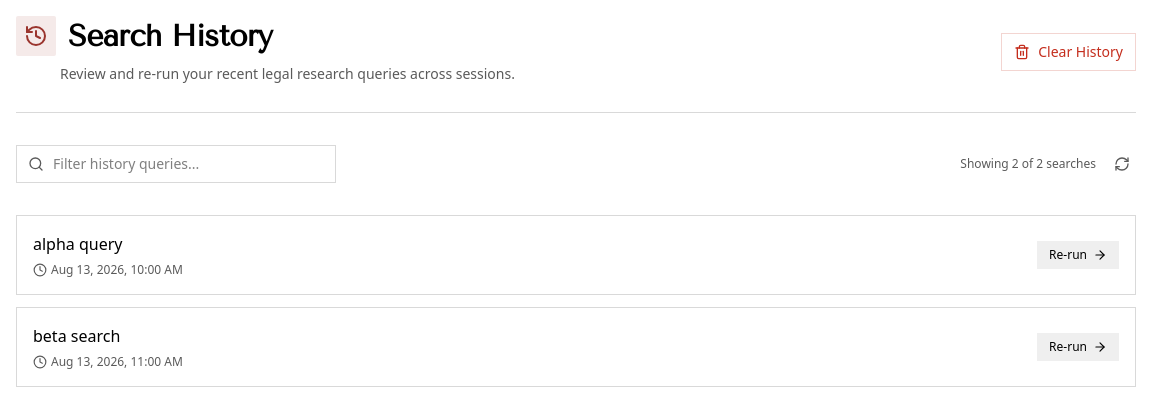
Scenario: SearchHistoryPage Component › filters history items based on search input
This screenshot has width=1153, height=404.
Expected: the link "alpha query" is shown, x1=33 y1=232 x2=122 y2=256
Expected: the link "beta search" is shown, x1=33 y1=324 x2=120 y2=348
Type "alpha" into the field with placeholder "Filter history queries..." at (176, 164), box x1=16 y1=145 x2=336 y2=183
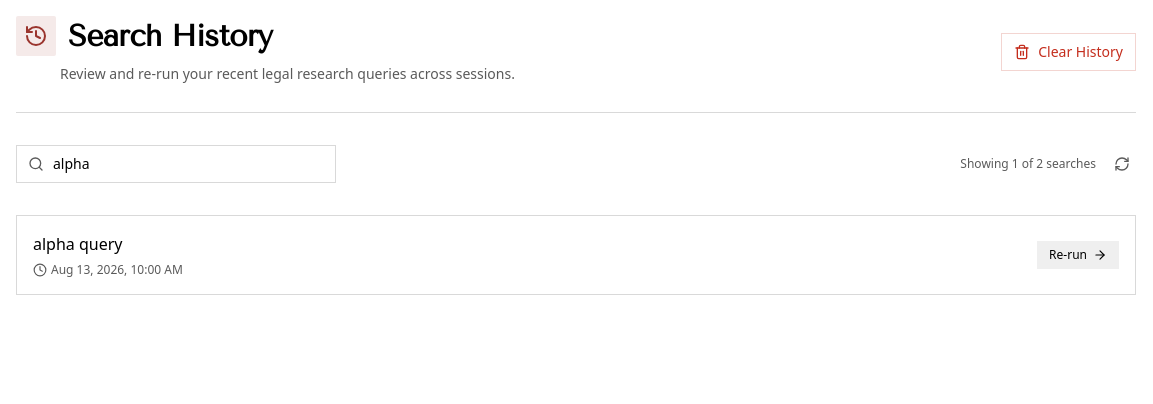
Expected: the link "alpha query" is shown, x1=33 y1=232 x2=122 y2=256
Expected: the link "beta search" is gone
